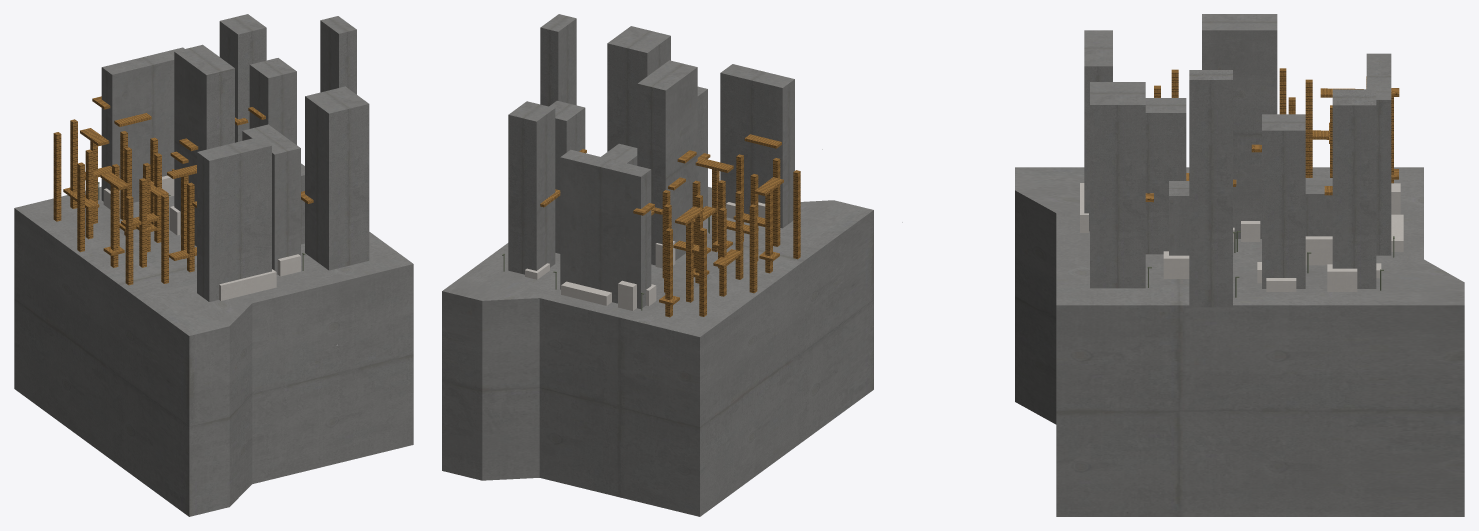
File: map.glb
The picture shows the model from 3 angles, left to right: view 1: azimuth 30°, elevation 25°; view 2: azimuth 150°, elevation 25°; view 3: azimuth 270°, elevation 25°; orthographic projection. The views are drawn at different scales.
Parts seen in each view (by area): view 1: Cube.179, Cube.171, Cube.170, Cube.175, Cube.169, Cube.172, Cube.177, Cube.178, Cube.174, Cube.072, Cube.138, Cube.141 (+9 smaller); view 2: Cube.179, Cube.175, Cube.170, Cube.169, Cube.178, Cube.171, Cube.174, Cube.177, Cube.172, Cube.140, Cube.061, Cube.119 (+9 smaller); view 3: Cube.179, Cube.171, Cube.174, Cube.169, Cube.178, Cube.177, Cube.172, Cube.175, Cube.170, Cube.176, Cube.173, Cube.059 (+3 smaller).
Part boxes in pixels (bbox=[...]): Cube.179: bbox=[14, 186, 413, 516]; Cube.171: bbox=[305, 86, 369, 270]; Cube.170: bbox=[197, 136, 271, 301]; Cube.175: bbox=[101, 47, 184, 202]; Cube.169: bbox=[174, 44, 234, 246]; Cube.172: bbox=[242, 124, 300, 274]; Cube.177: bbox=[249, 58, 296, 144]; Cube.178: bbox=[219, 14, 266, 142]; Cube.174: bbox=[320, 16, 356, 94]; Cube.072: bbox=[219, 269, 276, 300]; Cube.138: bbox=[53, 132, 61, 221]; Cube.141: bbox=[125, 195, 133, 285]; Cube.179: bbox=[442, 187, 873, 516]; Cube.175: bbox=[560, 149, 651, 308]; Cube.170: bbox=[720, 64, 794, 228]; Cube.169: bbox=[637, 60, 697, 265]; Cube.178: bbox=[508, 101, 555, 274]; Cube.171: bbox=[607, 26, 670, 151]; Cube.174: bbox=[540, 14, 576, 106]; Cube.177: bbox=[549, 100, 585, 253]; Cube.172: bbox=[697, 86, 707, 207]; Cube.140: bbox=[749, 204, 757, 293]; Cube.061: bbox=[561, 281, 611, 305]; Cube.119: bbox=[735, 191, 743, 279]; Cube.179: bbox=[1015, 167, 1464, 516]; Cube.171: bbox=[1090, 82, 1145, 288]; Cube.174: bbox=[1189, 70, 1232, 307]; Cube.169: bbox=[1202, 14, 1277, 238]; Cube.178: bbox=[1332, 89, 1376, 288]; Cube.177: bbox=[1262, 114, 1305, 288]; Cube.172: bbox=[1145, 98, 1186, 254]; Cube.175: bbox=[1366, 53, 1391, 255]; Cube.170: bbox=[1084, 30, 1112, 231]; Cube.176: bbox=[1305, 178, 1332, 236]; Cube.173: bbox=[1169, 181, 1189, 255]; Cube.059: bbox=[1305, 236, 1332, 265].
Bounding box in the file's own units: 134 × 197 × 230.
Materials: 48 (47 with a texture image).
